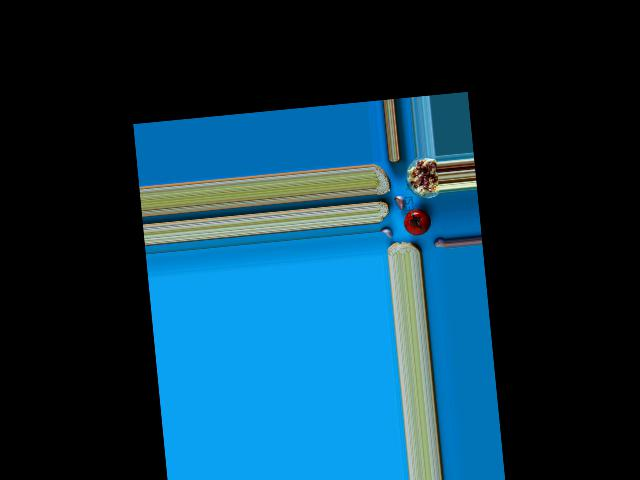tomato: (402, 209, 432, 236)
